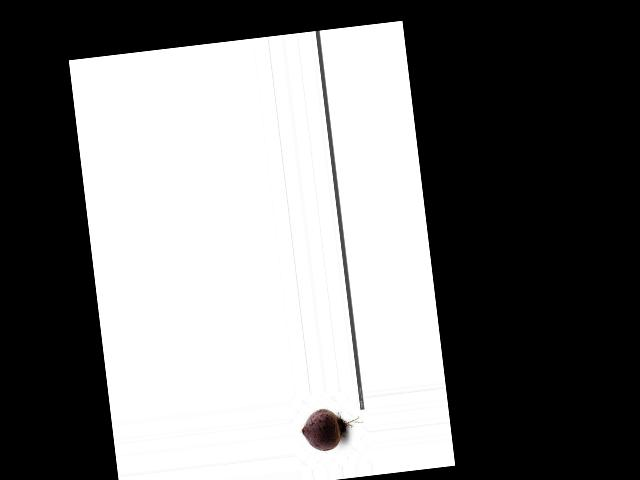beet: (299, 403, 366, 453)
